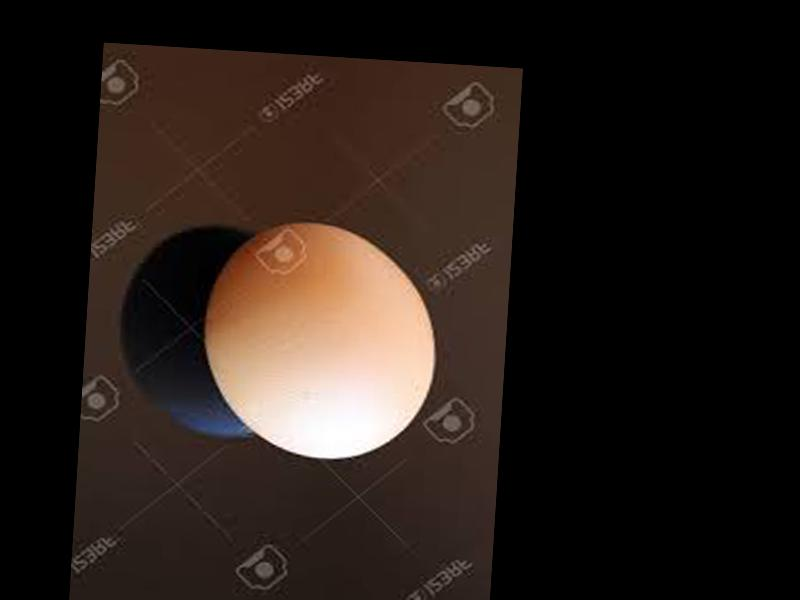Eggs: (195, 218, 443, 466)
